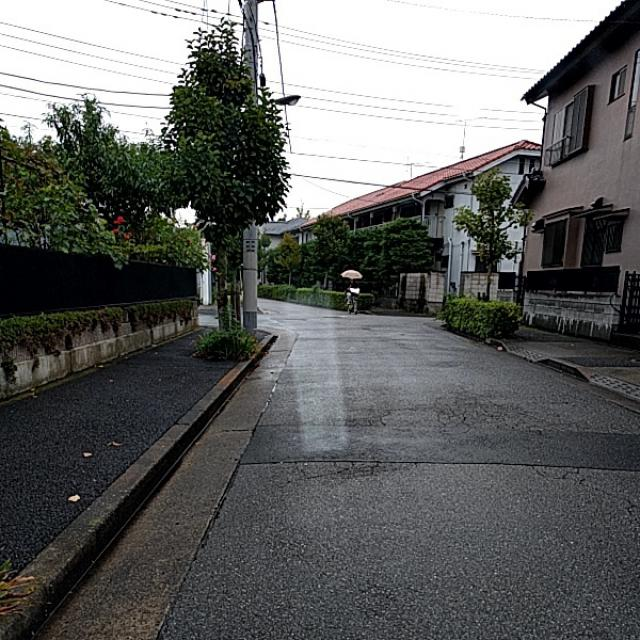pothole: (289, 399, 538, 472)
